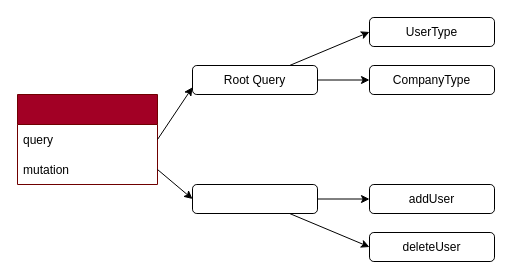
Image size: 512x279. Some labels were removed from this diagram. The box of each missing label's shape, as (x1, y1, x2, y2) in pixels:
GraphQL Schema: (16, 94, 158, 184)
Mutations: (192, 184, 318, 214)
